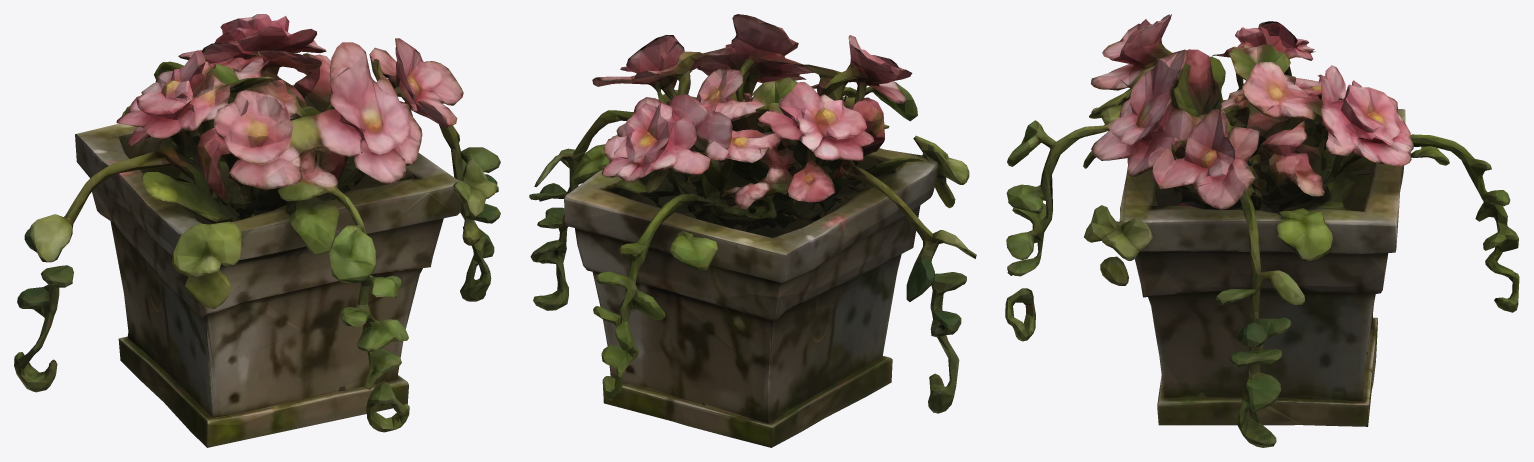
3 renders of one model, left to right at view 1: azimuth 30°, elevation 25°; view 2: azimuth 150°, elevation 25°; view 3: azimuth 270°, elevation 25°, orthographic. The views are drawn at different scales.
Visible parts, largest first — view 1: world; view 2: world; view 3: world.
Part boxes in pixels (bbox=[...]): world: bbox=[14, 14, 500, 447]; world: bbox=[529, 14, 976, 447]; world: bbox=[1005, 14, 1519, 447].
Size of the model in its own units: 0.9993 by 0.7542 by 1.
1 material, 1 textured.
